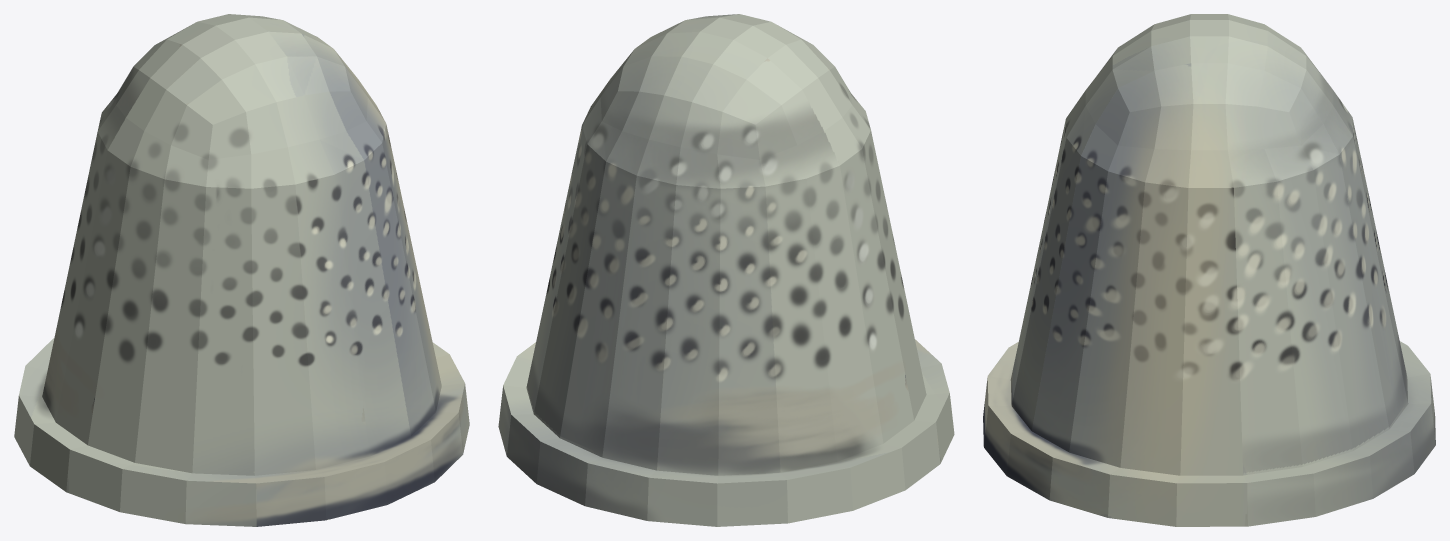
The model's file is thimbleFINAL.fbx.
3 renders of one model, left to right at view 1: azimuth 30°, elevation 25°; view 2: azimuth 150°, elevation 25°; view 3: azimuth 270°, elevation 25°, orthographic.
Parts seen in each view (by area): view 1: monopoly thimble; view 2: monopoly thimble; view 3: monopoly thimble.
Boxes of the visible parts, x1=… form: monopoly thimble: x1=14, y1=14, x2=469, y2=526; monopoly thimble: x1=498, y1=14, x2=954, y2=526; monopoly thimble: x1=983, y1=14, x2=1435, y2=526.
Bounding box in the file's own units: 622 × 610 × 622.
